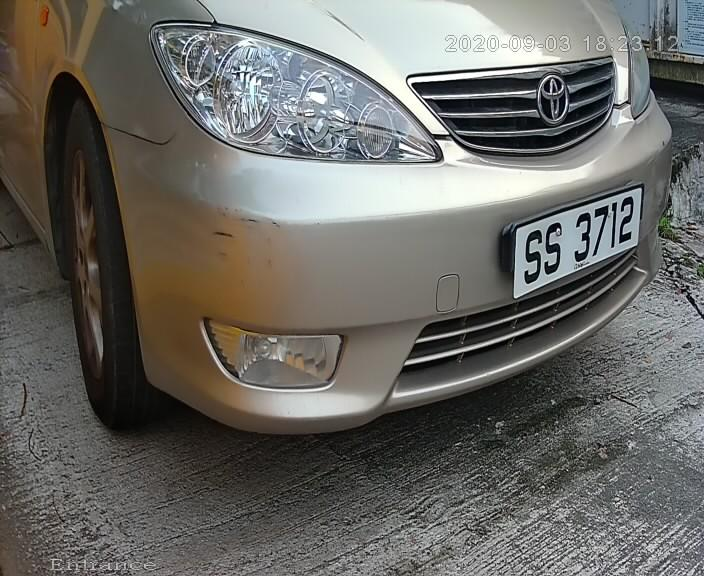License Plate: (498, 179, 651, 305)
